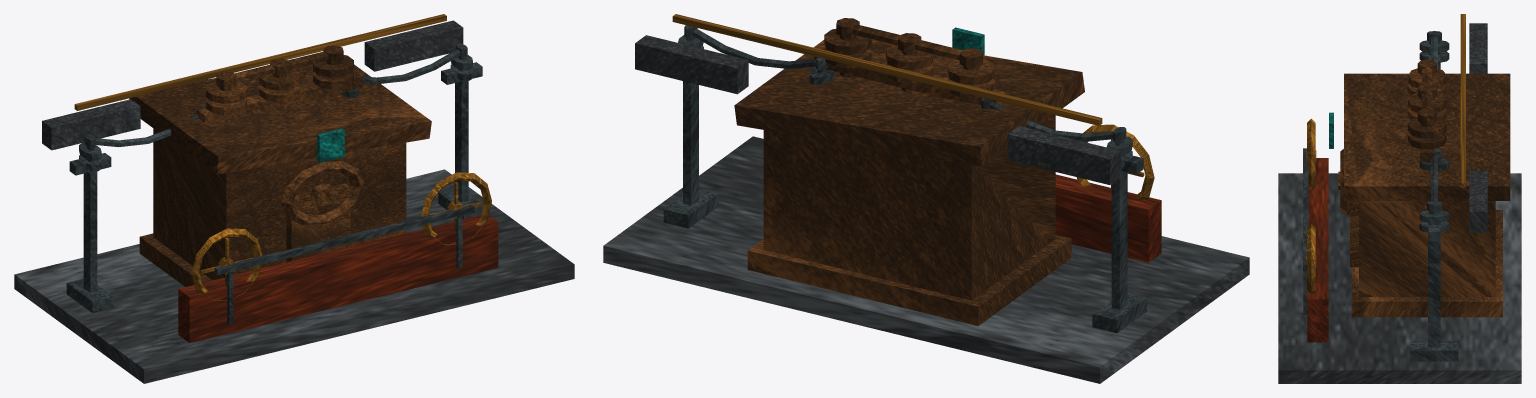
The model's file is dam-crest-gate-house.glb.
3 renders of one model, left to right at view 1: azimuth 30°, elevation 25°; view 2: azimuth 150°, elevation 25°; view 3: azimuth 270°, elevation 25°, orthographic. The views are drawn at different scales.
Visible parts, largest first — view 1: dam-crest-gate-house; view 2: dam-crest-gate-house; view 3: dam-crest-gate-house.
Part boxes in pixels (left/top/right/bottom): dam-crest-gate-house: left=14, top=14, right=574, bottom=383; dam-crest-gate-house: left=603, top=14, right=1249, bottom=383; dam-crest-gate-house: left=1278, top=14, right=1521, bottom=383.
Bounding box in the file's own units: 9.2 × 4.3 × 4.8.
Materials: 1 (1 with a texture image).
